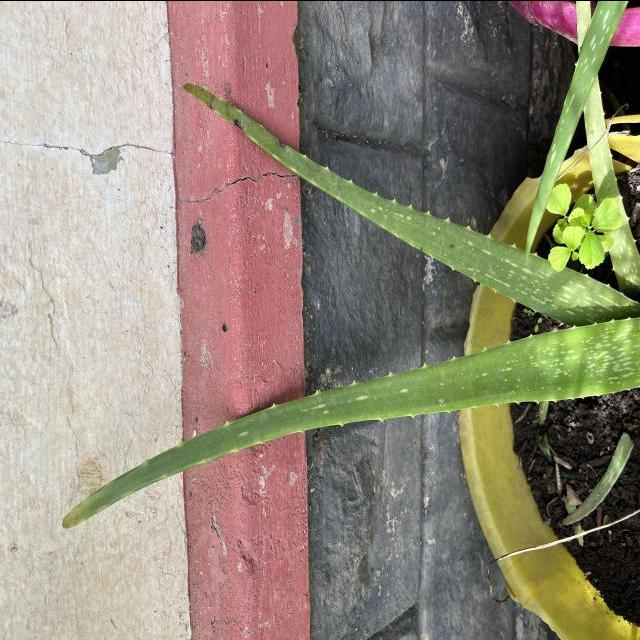Aloe vera: (57, 309, 640, 536)
